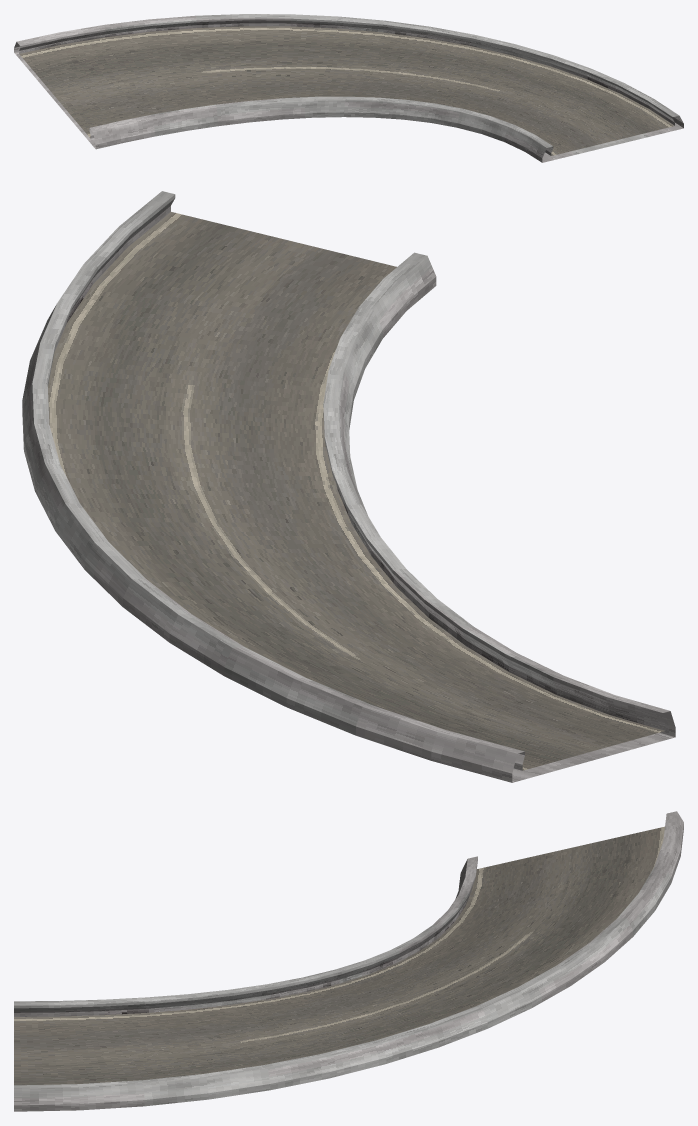
File: turn-left3x3.glb
The picture shows the model from 3 angles, top to bottom: view 1: azimuth 30°, elevation 25°; view 2: azimuth 150°, elevation 25°; view 3: azimuth 270°, elevation 25°; orthographic projection. The views are drawn at different scales.
Parts seen in each view (by area): view 1: road-Turn-Flat-HalfBankedLeft-Down1-Left-Size3; view 2: road-Turn-Flat-HalfBankedLeft-Down1-Left-Size3; view 3: road-Turn-Flat-HalfBankedLeft-Down1-Left-Size3.
Boxes of the visible parts, x1,y1,x2,y2 form: road-Turn-Flat-HalfBankedLeft-Down1-Left-Size3: (14, 14, 683, 162); road-Turn-Flat-HalfBankedLeft-Down1-Left-Size3: (22, 191, 675, 782); road-Turn-Flat-HalfBankedLeft-Down1-Left-Size3: (14, 811, 683, 1111).
Bounding box in the file's own units: 3 × 0.3438 × 3.
Materials: 2 (2 with a texture image).
